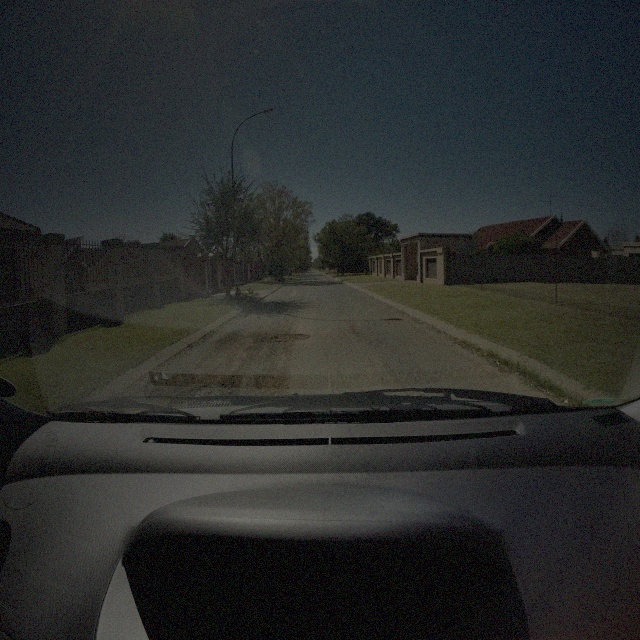pothole: (168, 382, 234, 409), (276, 332, 308, 341)
